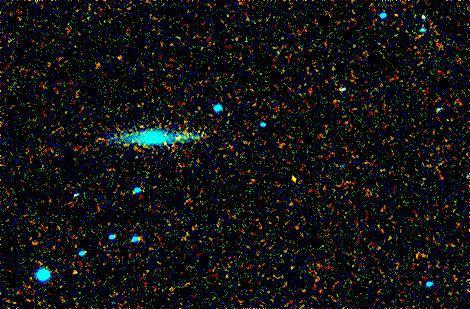star: (274, 159, 304, 189)
